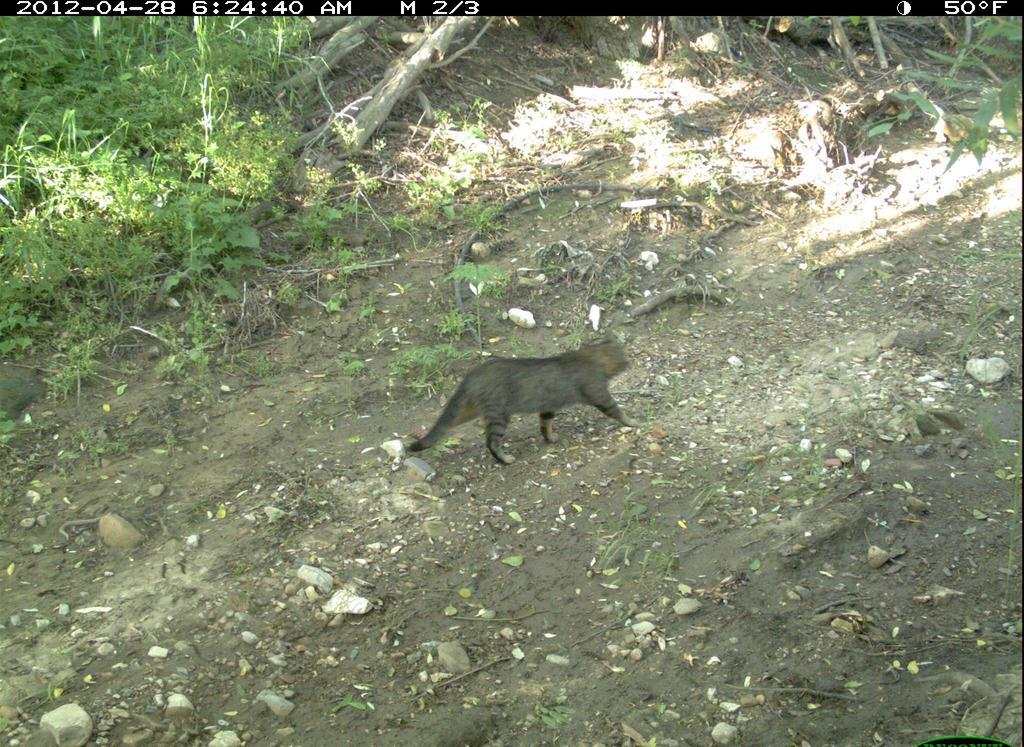cat: (396, 327, 661, 487)
